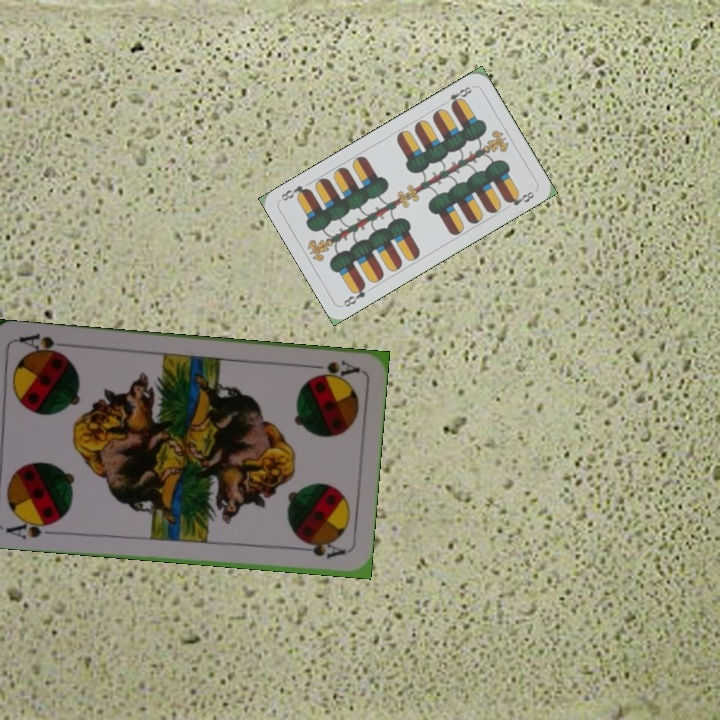E8: (439, 82, 476, 110), (339, 280, 368, 310)
SA: (1, 514, 58, 542), (303, 355, 362, 382)
